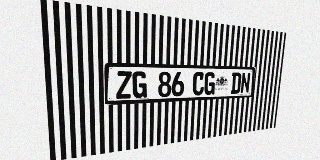6: (171, 72, 185, 97)
8: (158, 72, 172, 97)
C: (192, 72, 205, 96)
D: (230, 72, 241, 94)
G: (132, 71, 147, 98), (204, 72, 216, 95)
N: (240, 73, 251, 93)
Z: (116, 71, 132, 99)
